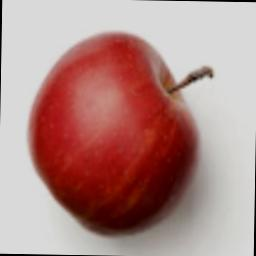Apple Ripe: (3, 9, 256, 239)
